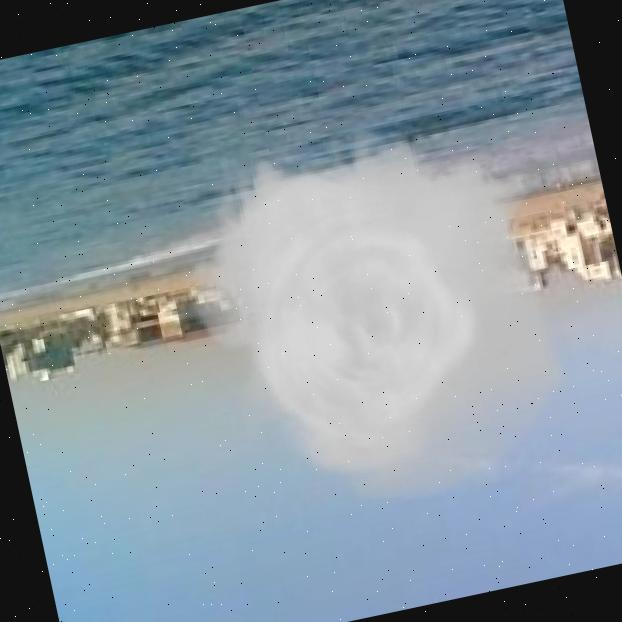smoke: (151, 97, 603, 539)
